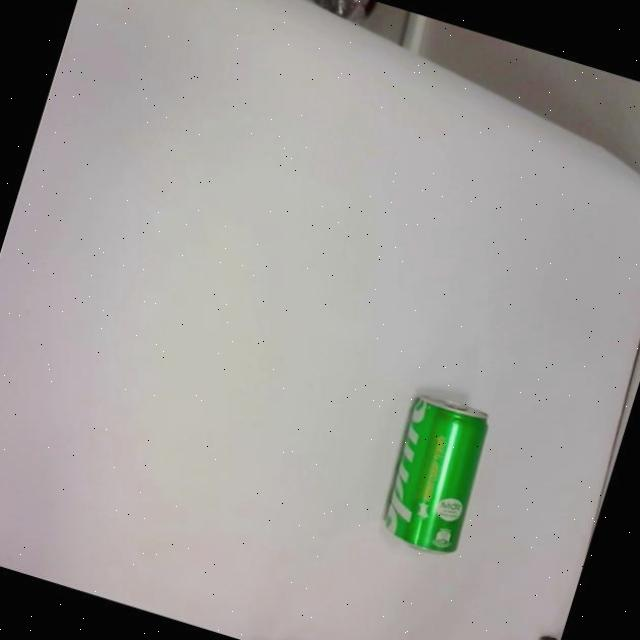debris: (370, 389, 498, 561)
